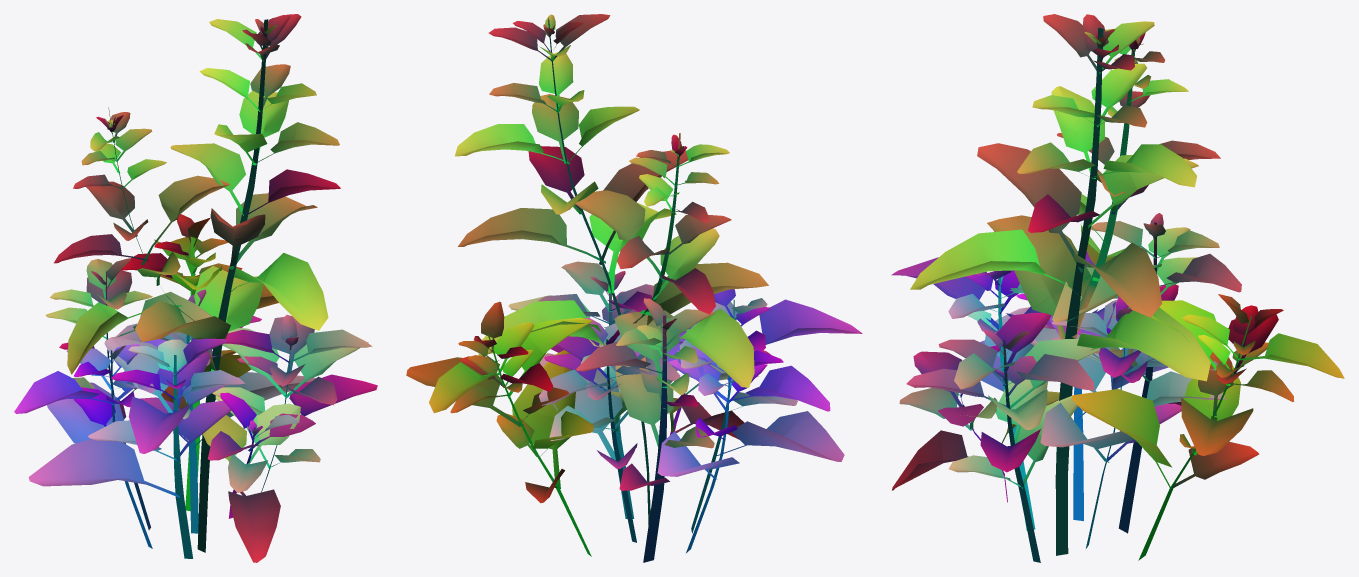
Rendered from Lemon_Balm_umslacdia_Mid_umslacdia_VarC_LOD2.fbx.
The picture shows the model from 3 angles, left to right: view 1: azimuth 30°, elevation 25°; view 2: azimuth 150°, elevation 25°; view 3: azimuth 270°, elevation 25°; orthographic projection. The views are drawn at different scales.
Visible parts, largest first — view 1: _q7yf_VarC_LOD4; view 2: _q7yf_VarC_LOD4; view 3: _q7yf_VarC_LOD4.
Boxes of the visible parts, box(x1,y1,x2,y2) form: _q7yf_VarC_LOD4: box(14, 14, 377, 562); _q7yf_VarC_LOD4: box(406, 14, 862, 562); _q7yf_VarC_LOD4: box(891, 14, 1344, 562).
Bounding box in the file's own units: 52.91 × 71.71 × 51.41.
